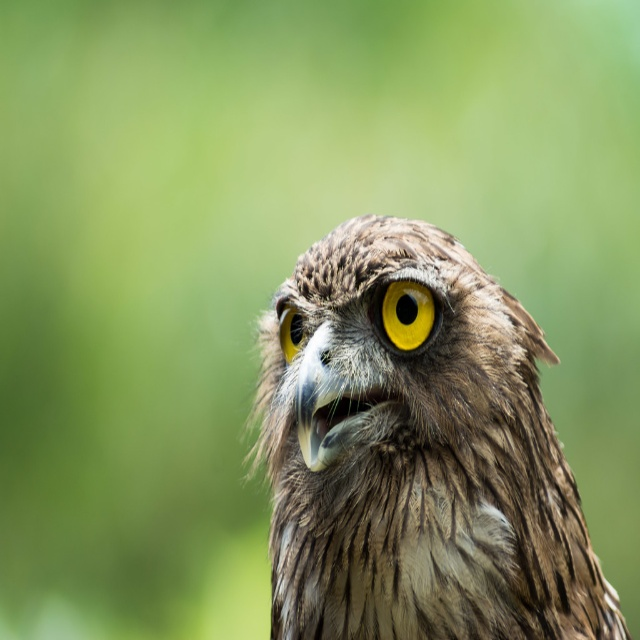Owl: (236, 214, 633, 640)
